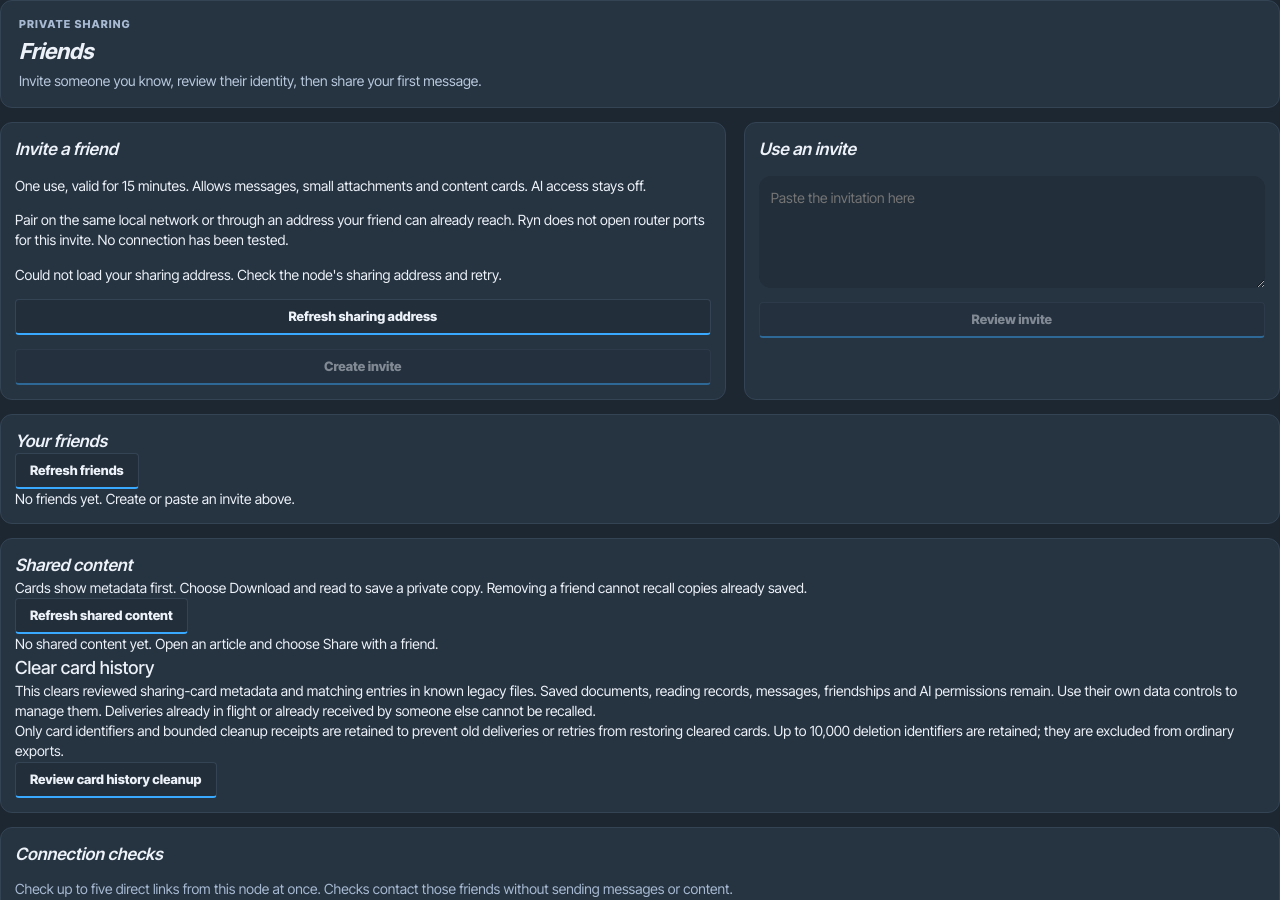
Test: Friend pairing recovery › keeps creation disabled after address load failure and recovers after retry
This screenshot has width=1280, height=900.
Expected: the text "Could not load your sharing address" is shown, [15,266,502,283]
Expected: the button "Create invite" is disabled, [15,349,711,385]
Click the button "Refresh sharing address".
click(363, 317)  # box [15,299,711,335]
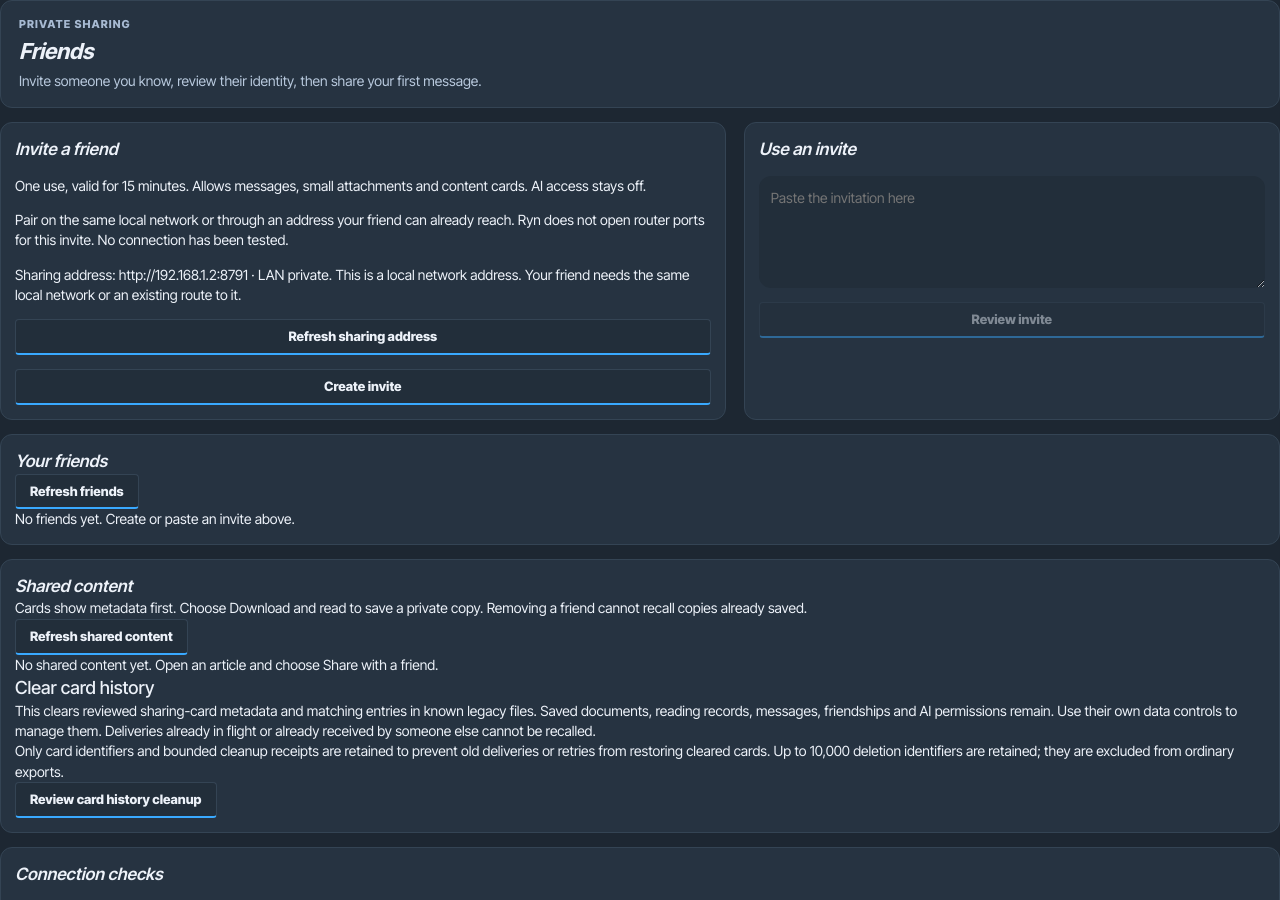
Expected: the button "Create invite" is enabled, [15,369,711,405]
